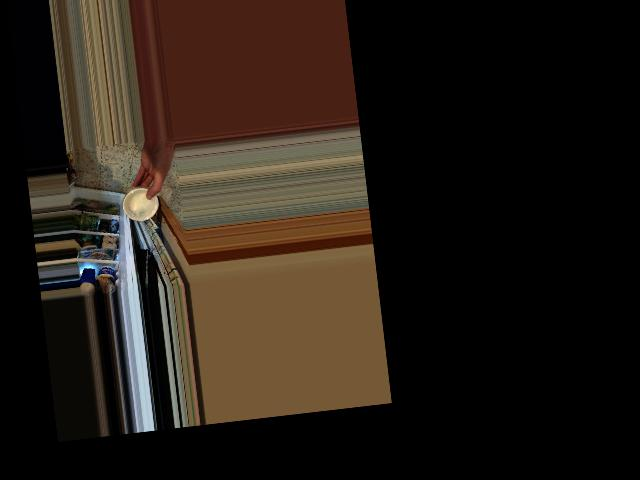cotage: (120, 185, 159, 225)
